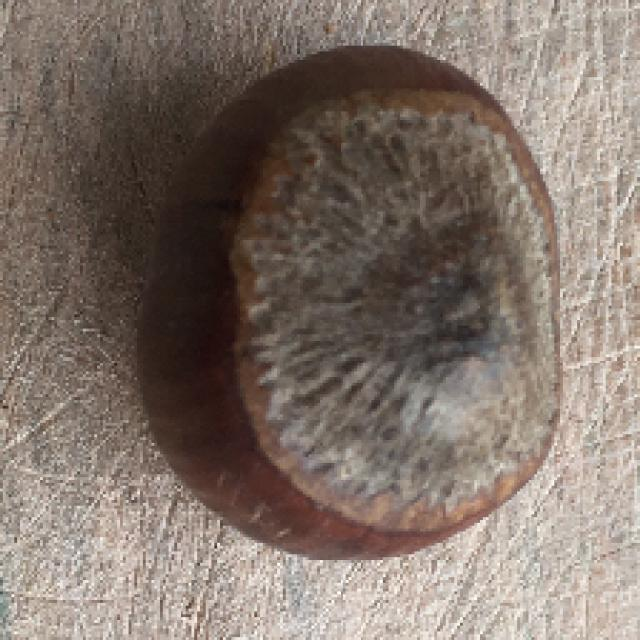qualityHazelnut: (162, 31, 568, 570)
